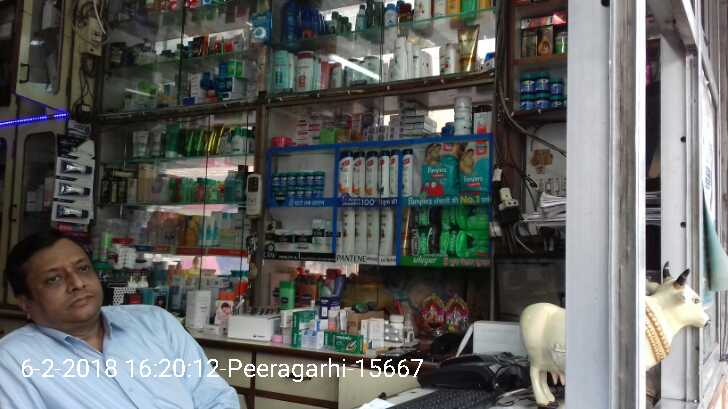vicks: (268, 170, 327, 204)
